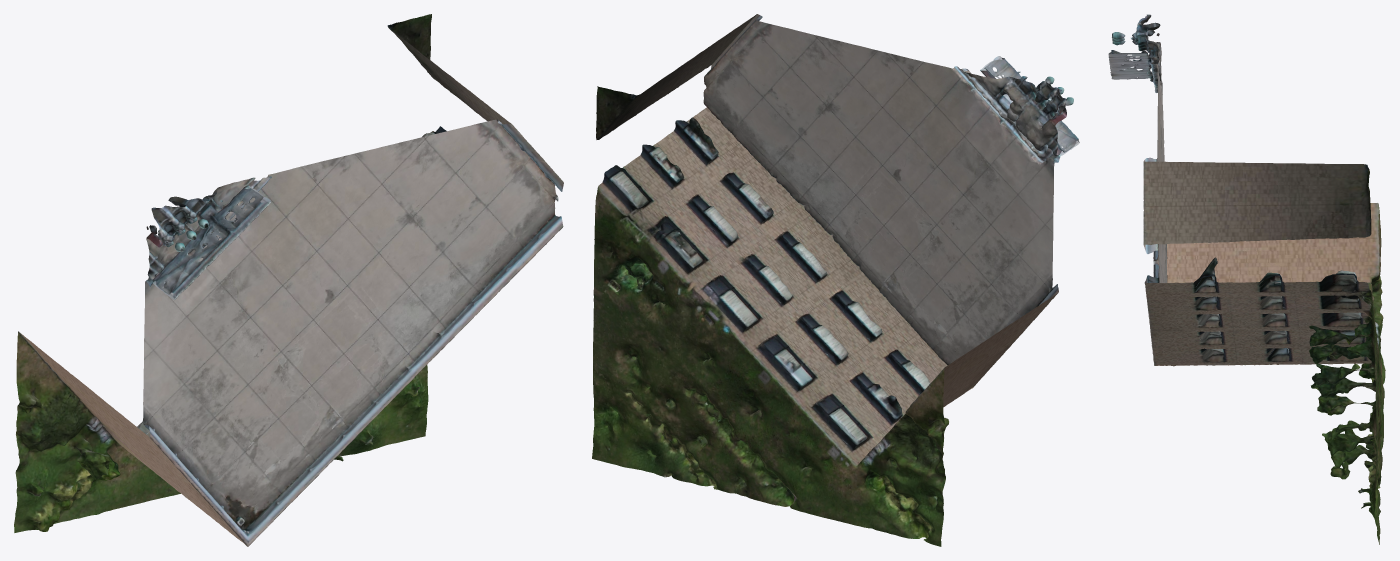
File: Tile_+010_+007.fbx
The picture shows the model from 3 angles, left to right: view 1: azimuth 30°, elevation 25°; view 2: azimuth 150°, elevation 25°; view 3: azimuth 270°, elevation 25°; orthographic projection. The views are drawn at different scales.
Visible parts, largest first — view 1: DefaultName; view 2: DefaultName; view 3: DefaultName.
Part boxes in pixels (<box>): DefaultName: <box>14,14,563,546</box>; DefaultName: <box>592,14,1079,546</box>; DefaultName: <box>1108,14,1385,544</box>.
Size of the model in its own units: 22.54 by 22.54 by 15.58.
